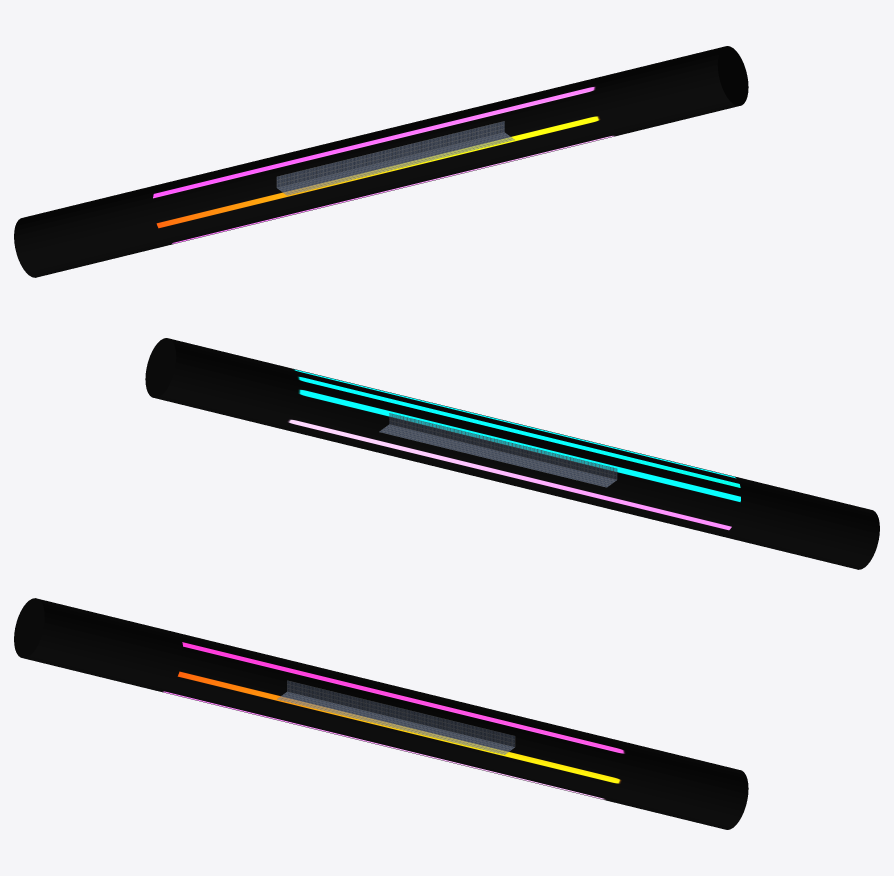
The model's file is stage-dot3.glb.
The picture shows the model from 3 angles, top to bottom: view 1: azimuth 30°, elevation 25°; view 2: azimuth 150°, elevation 25°; view 3: azimuth 330°, elevation 25°; orthographic projection.
Visible parts, largest first — view 1: 反転円柱, 反転円柱(円面抜き) (1), 反転円柱(円面抜き); view 2: 反転円柱, 反転円柱(円面抜き) (2), 反転円柱(円面抜き) (1); view 3: 反転円柱, 反転円柱(円面抜き) (1), 反転円柱(円面抜き).
Boxes of the visible parts, x1=… form: 反転円柱: x1=14, y1=46, x2=748, y2=277; 反転円柱(円面抜き) (1): x1=153, y1=87, x2=614, y2=243; 反転円柱(円面抜き): x1=156, y1=116, x2=599, y2=228; 反転円柱: x1=145, y1=338, x2=879, y2=569; 反転円柱(円面抜き) (2): x1=294, y1=369, x2=740, y2=501; 反転円柱(円面抜き) (1): x1=288, y1=419, x2=731, y2=530; 反転円柱: x1=14, y1=598, x2=748, y2=829; 反転円柱(円面抜き) (1): x1=163, y1=642, x2=624, y2=799; 反転円柱(円面抜き): x1=177, y1=671, x2=620, y2=783.
Size of the model in its own units: 461 by 29.49 by 29.49.
Materials: 5 (4 with a texture image).
